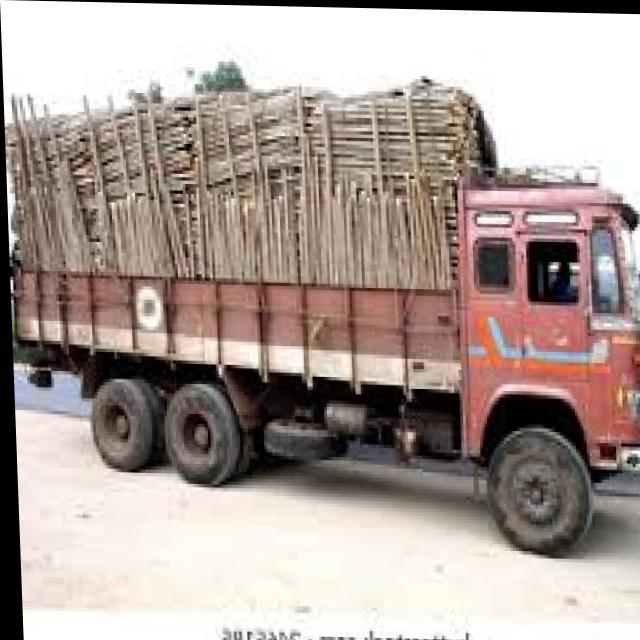uncovered: (2, 70, 640, 554)
